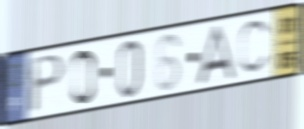0: (115, 37, 144, 101), (70, 48, 97, 106)
6: (153, 30, 185, 94)
A: (195, 23, 237, 88)
C: (237, 17, 273, 78)
P: (27, 51, 68, 118)
